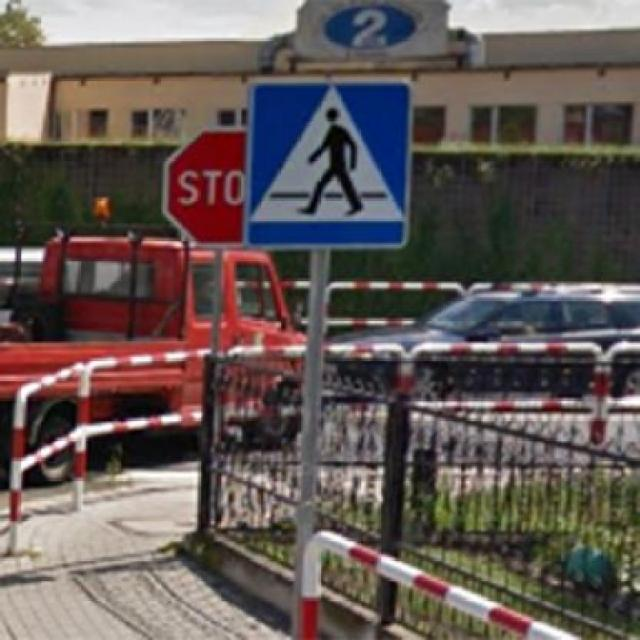Przejscie dla pieszych: (242, 78, 415, 252)
Stop: (163, 128, 249, 248)
